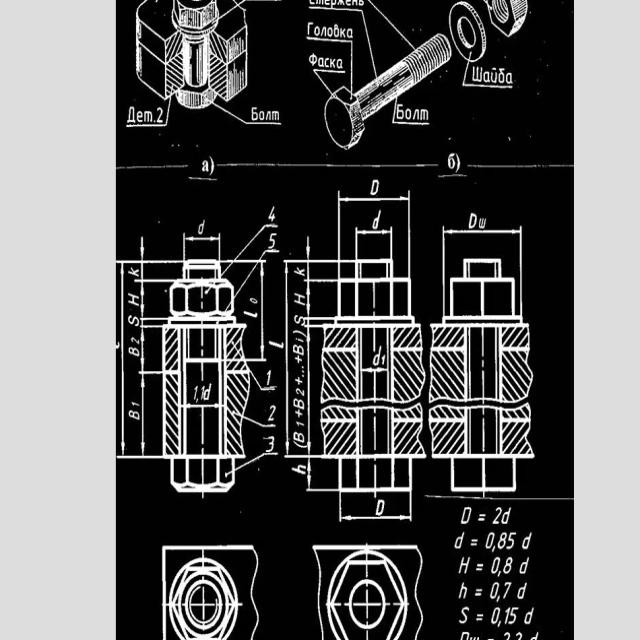marking_line: (120, 263, 125, 457), (284, 263, 289, 454), (260, 263, 267, 357), (307, 328, 312, 454), (340, 195, 408, 204), (139, 375, 146, 455), (446, 227, 519, 234), (343, 515, 410, 520), (305, 284, 314, 316), (141, 328, 147, 370), (185, 235, 220, 242), (140, 281, 146, 318), (358, 229, 389, 235), (305, 235, 313, 258), (127, 266, 140, 279), (138, 238, 144, 258)
numeric: (487, 529, 516, 553), (491, 606, 519, 626), (490, 556, 514, 579), (490, 580, 513, 603), (266, 229, 278, 253), (501, 628, 523, 640), (263, 435, 275, 454), (492, 507, 502, 529), (267, 403, 278, 423), (265, 204, 277, 222), (193, 385, 205, 401), (265, 366, 273, 387)
